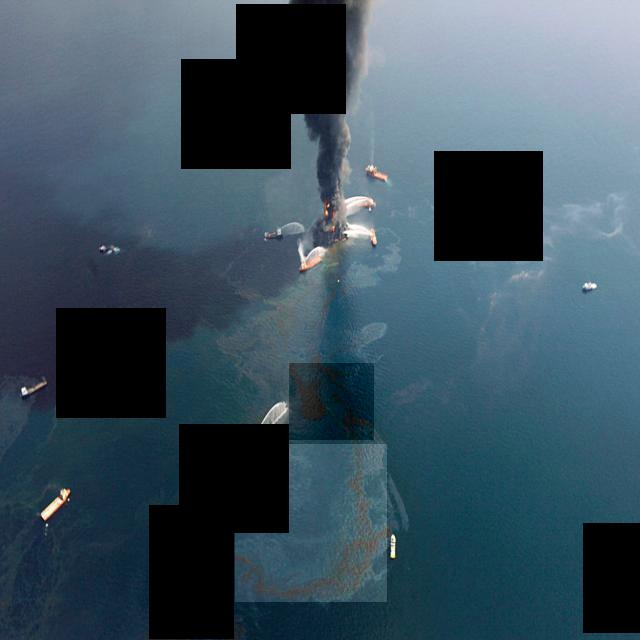oil spill: (236, 444, 387, 602), (149, 506, 234, 640), (289, 364, 374, 440)
